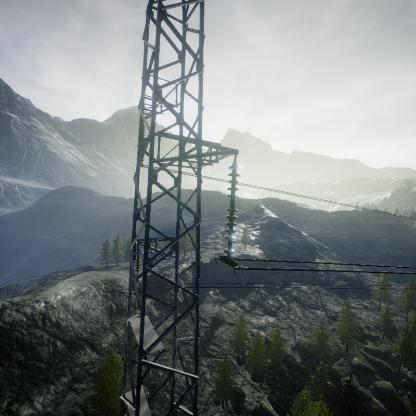insulator: (223, 160, 241, 257)
